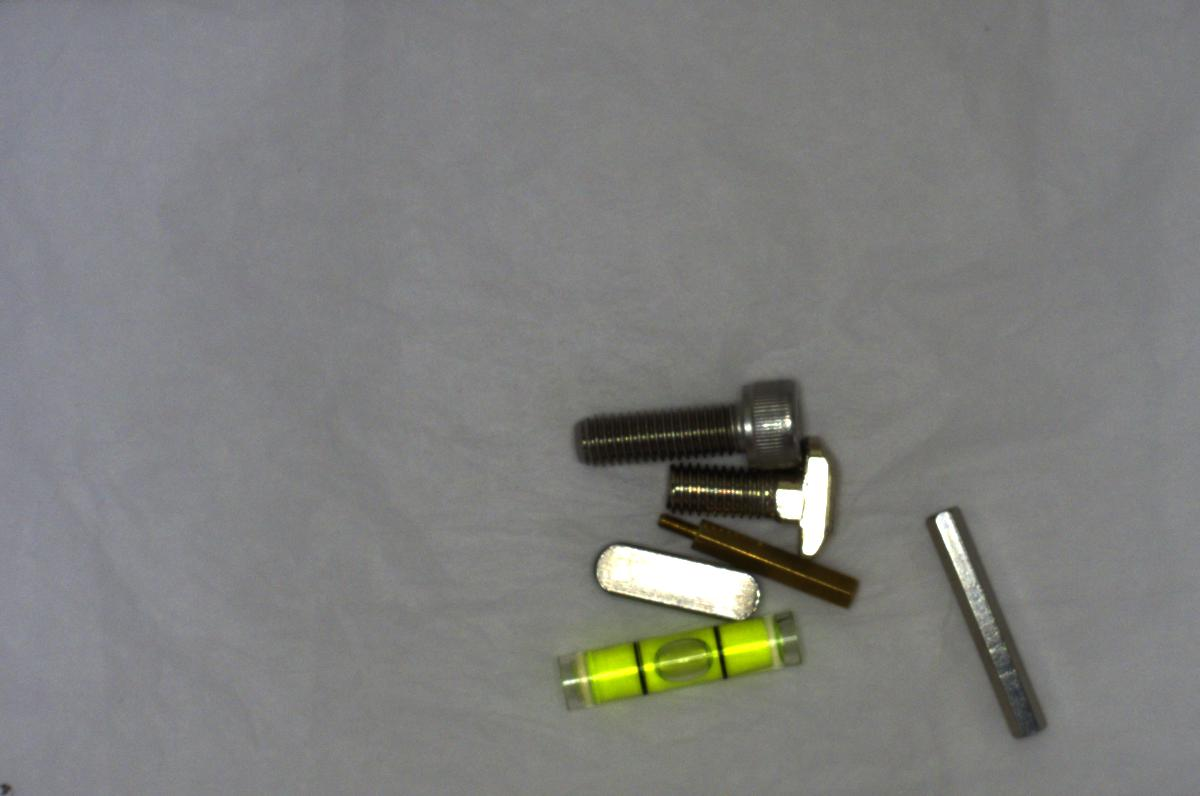Double hexagonal column: (928, 499, 1052, 745)
Hexagon pillar: (653, 509, 866, 613)
Hexagon screw: (550, 365, 812, 476)
Horizontal bubble: (546, 613, 820, 717)
Keybar: (576, 532, 765, 627)
T-shaped screw: (656, 435, 843, 568)
